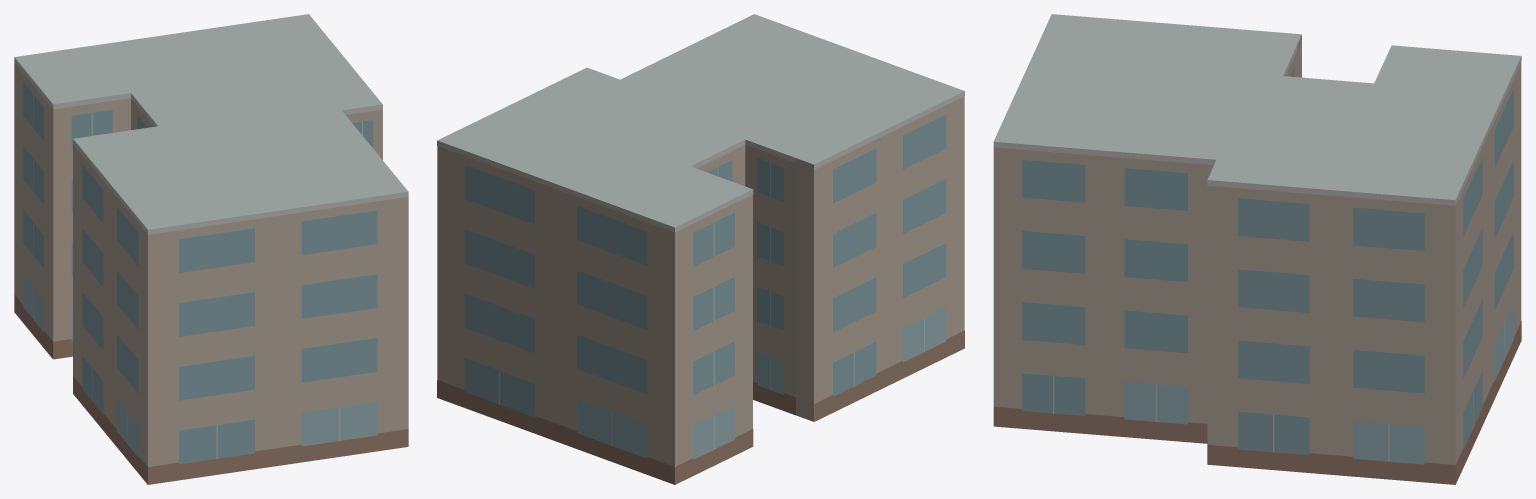
Rendered from residential-30b40eef-5bb4-4684-9829-4c75143783ee.glb.
3 renders of one model, left to right at view 1: azimuth 30°, elevation 25°; view 2: azimuth 150°, elevation 25°; view 3: azimuth 270°, elevation 25°, orthographic. The views are drawn at different scales.
Parts seen in each view (by area): view 1: residential-30b40eef-5bb4-4684-9829-4c75143783ee.tmp; view 2: residential-30b40eef-5bb4-4684-9829-4c75143783ee.tmp; view 3: residential-30b40eef-5bb4-4684-9829-4c75143783ee.tmp.
Part boxes in pixels (box(x1,y1,x2,y2)): residential-30b40eef-5bb4-4684-9829-4c75143783ee.tmp: box(14, 14, 408, 484); residential-30b40eef-5bb4-4684-9829-4c75143783ee.tmp: box(437, 14, 964, 484); residential-30b40eef-5bb4-4684-9829-4c75143783ee.tmp: box(993, 14, 1521, 484).
Size of the model in its own units: 17.12 by 12.2 by 20.52.
